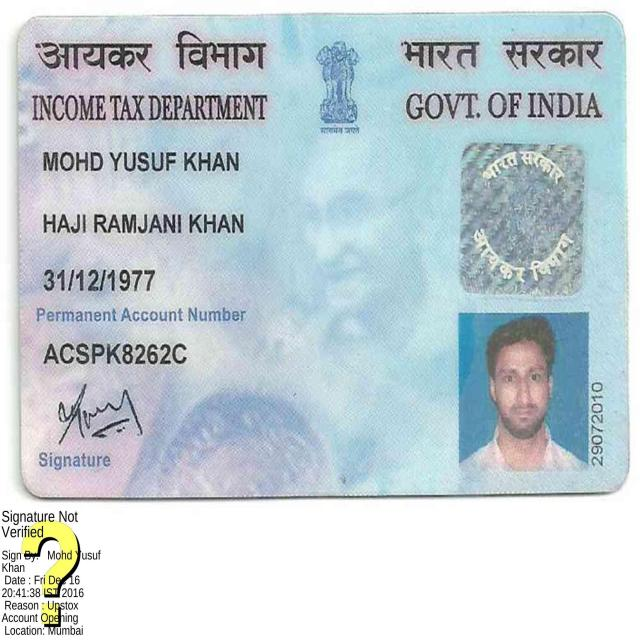pan_card: (21, 17, 625, 488)
